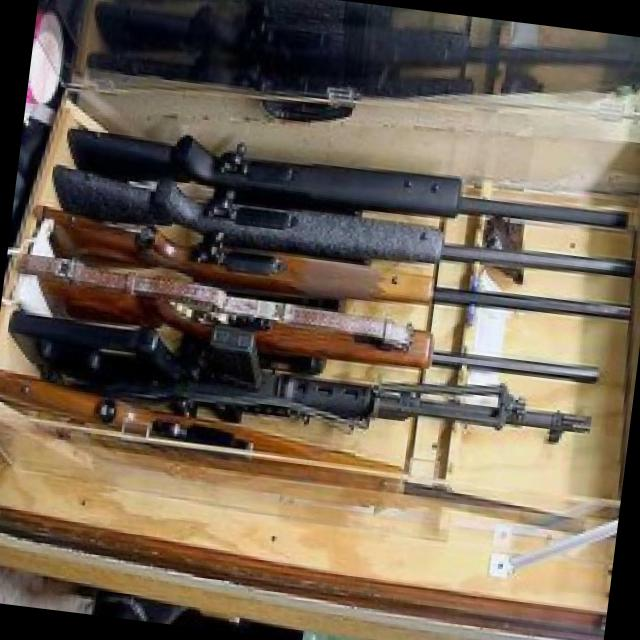long weapon: (50, 163, 639, 296), (27, 122, 636, 250), (6, 333, 606, 457), (16, 272, 616, 388)
